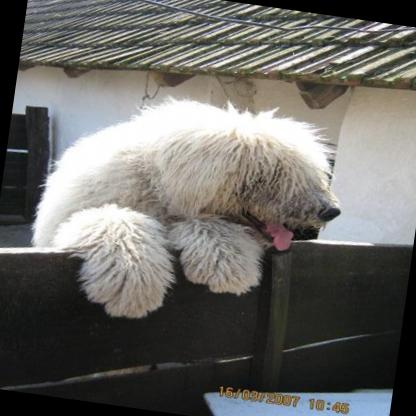komondor: (21, 74, 354, 346)
